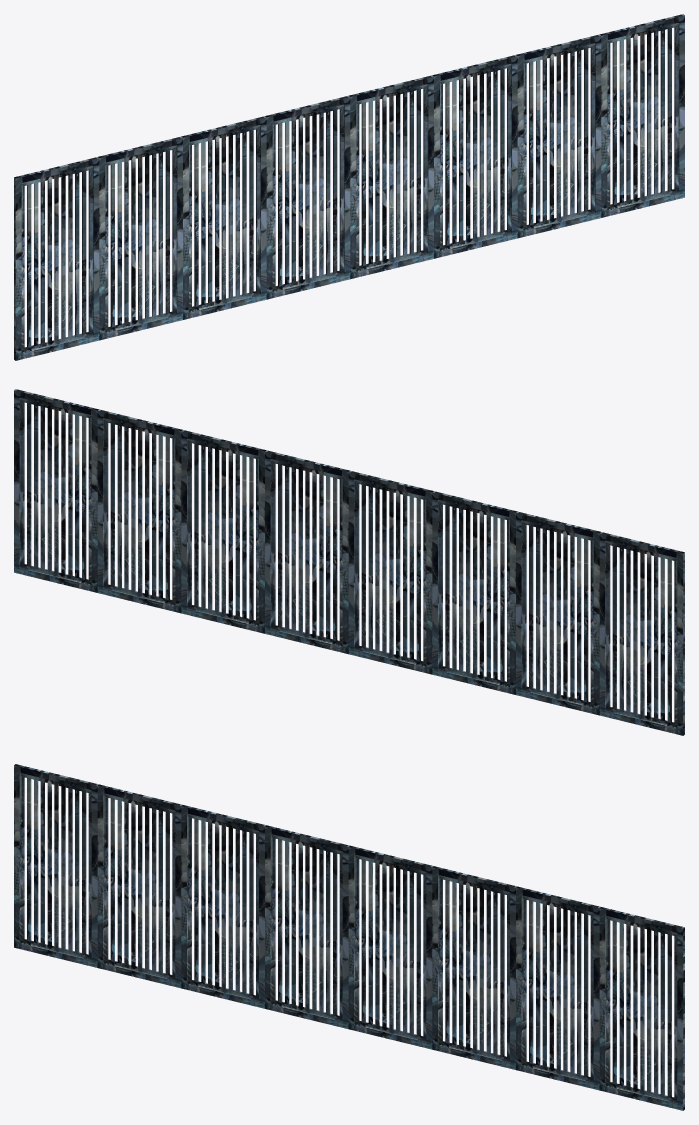
File: futuristic_room_6.obj
3 renders of one model, top to bottom at view 1: azimuth 30°, elevation 25°; view 2: azimuth 150°, elevation 25°; view 3: azimuth 330°, elevation 25°, orthographic.
Size of the model in its own units: 8.83 by 2.3 by 0.0398.
